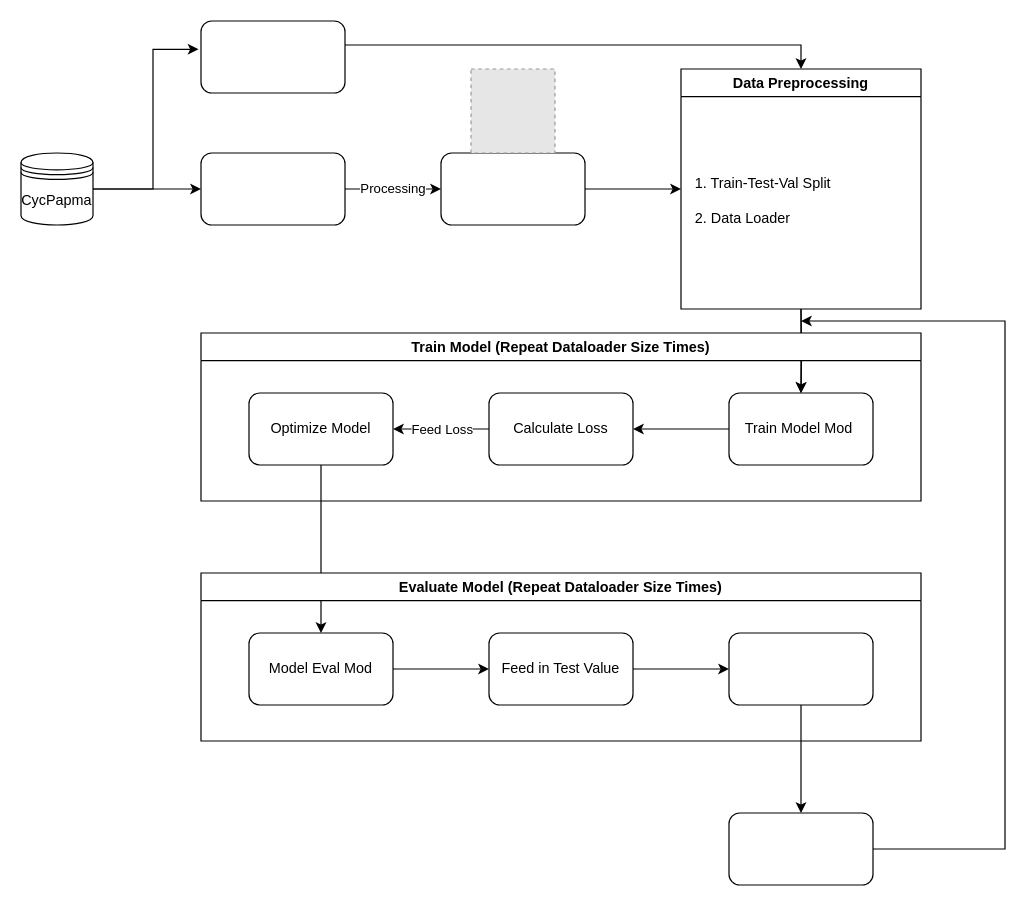
Some shapes in this 1036 by 906 pixel diagram are drawn without their labels. Grey dashed boxes stand in for pictures. Here are the shapes that lost their labels. From the top down, the centre of each, then its label:
(272,56): Permeability (Label)
(272,188): SMILES string
(512,188): Feedable Dataset
(800,668): Prompt Accuracy
(800,848): Save Current Model
